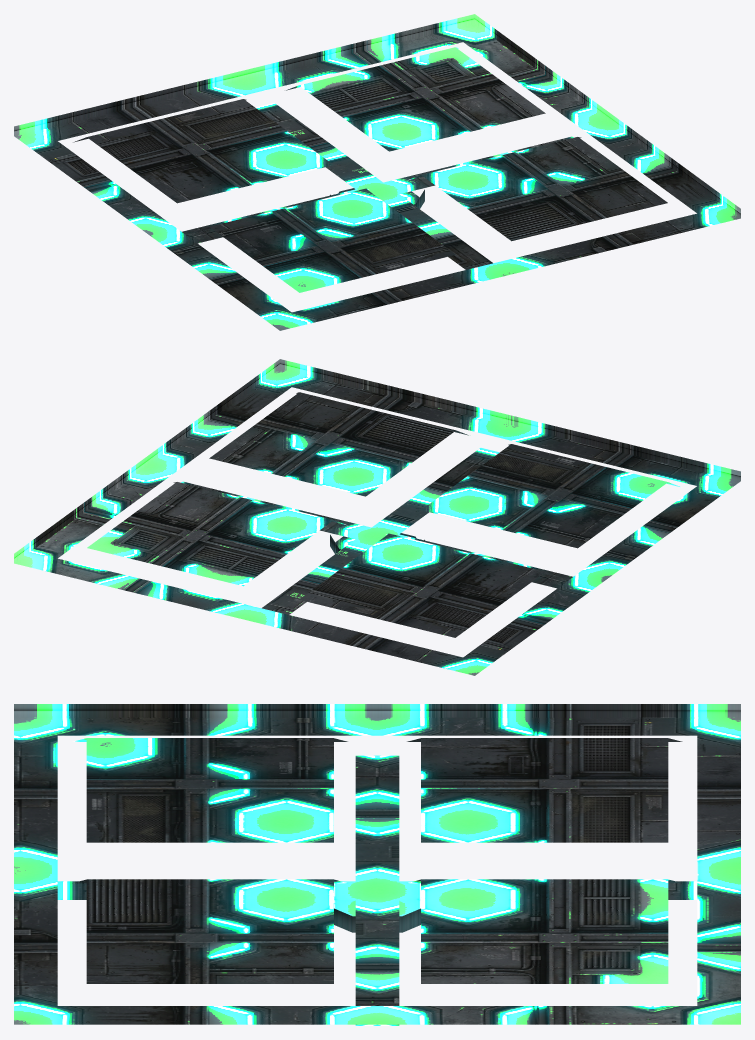
File: ceiling.glb
3 views of the same model, one above another, from view 1: azimuth 30°, elevation 25°; view 2: azimuth 150°, elevation 25°; view 3: azimuth 270°, elevation 25° (orthographic). The views are drawn at different scales.
Visible parts, largest first — view 1: Ceiling; view 2: Ceiling; view 3: Ceiling.
Boxes of the visible parts, box(x1,y1,x2,y2) form: Ceiling: box(14, 14, 740, 330); Ceiling: box(14, 359, 740, 675); Ceiling: box(14, 704, 740, 1025).
Size of the model in its own units: 1 by 0.08 by 1.
Materials: 1 (1 with a texture image).
